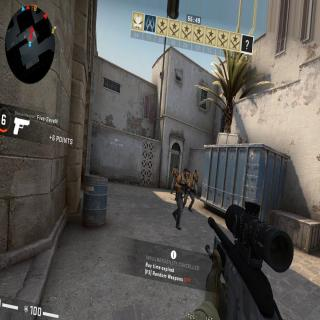T-Body: (169, 168, 189, 214), (181, 169, 196, 210), (192, 168, 200, 200), (171, 164, 178, 190)
T-Head: (183, 168, 188, 177), (194, 168, 197, 174), (188, 170, 190, 177), (175, 165, 177, 169)
